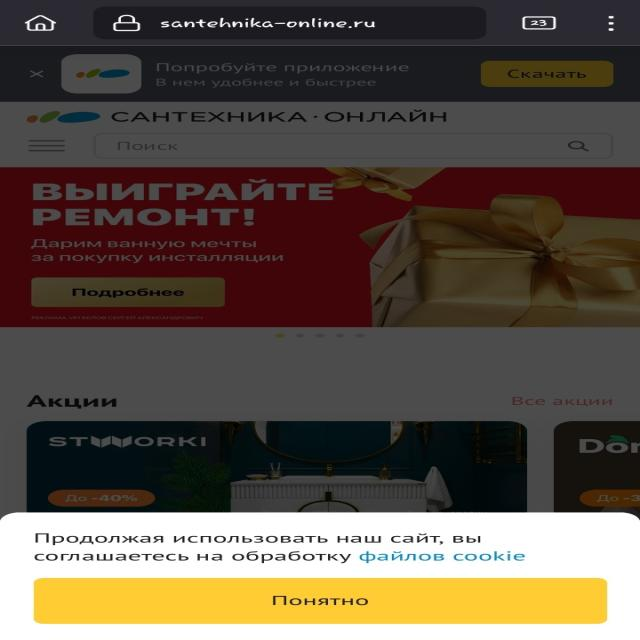button: (36, 576, 608, 624), (484, 60, 614, 86), (25, 68, 48, 80)
site: (0, 513, 640, 640), (0, 46, 640, 101)
